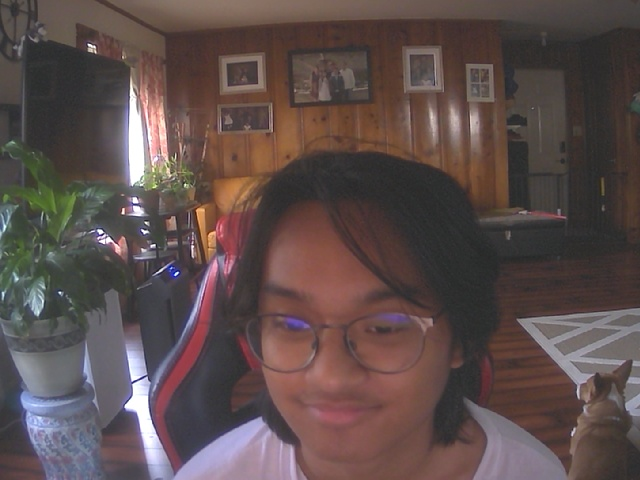happy: (234, 152, 476, 469)
